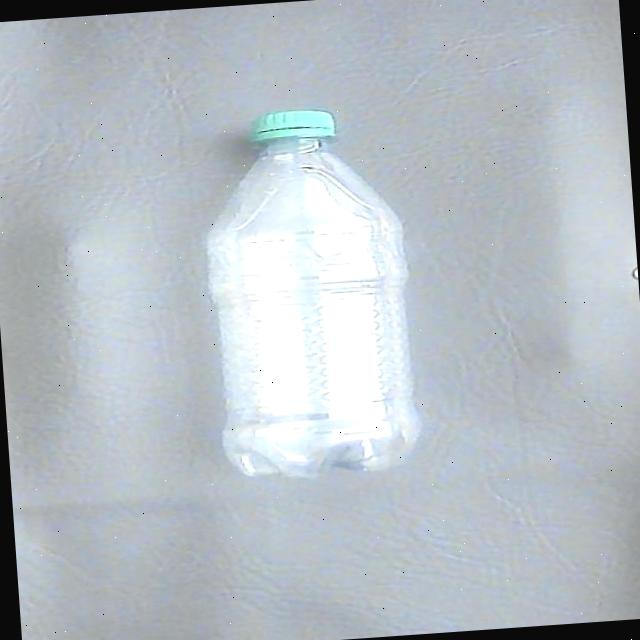bottle: (188, 100, 433, 485)
cap: (248, 106, 346, 144)
